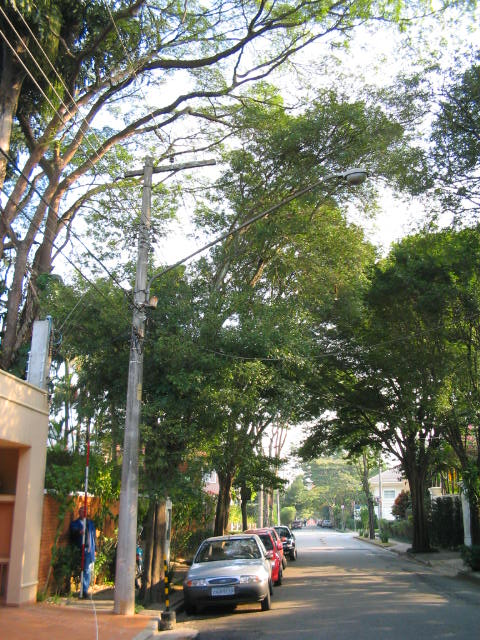stem: (138, 493, 180, 603), (397, 474, 438, 551)
stick: (73, 442, 95, 596)
